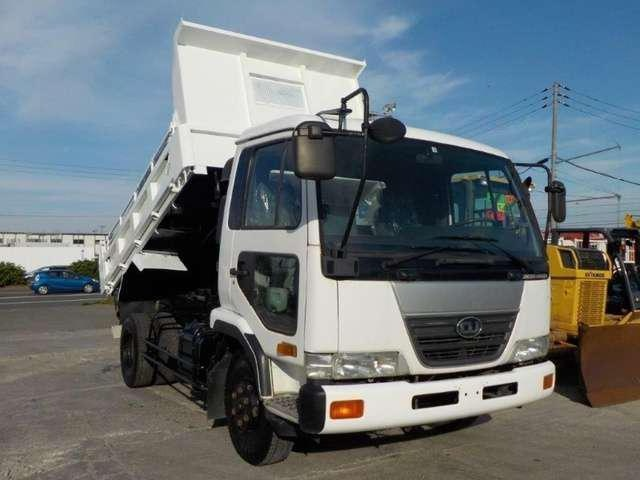truck: (108, 28, 546, 469)
